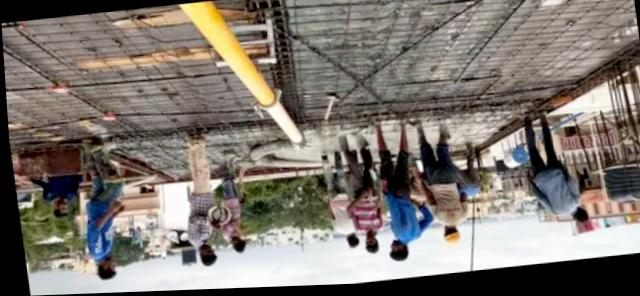helmet: (437, 231, 461, 246)
